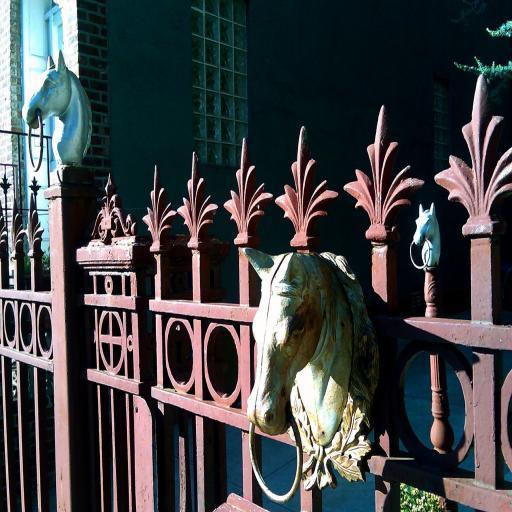horse: (243, 243, 353, 450), (23, 51, 92, 165)
